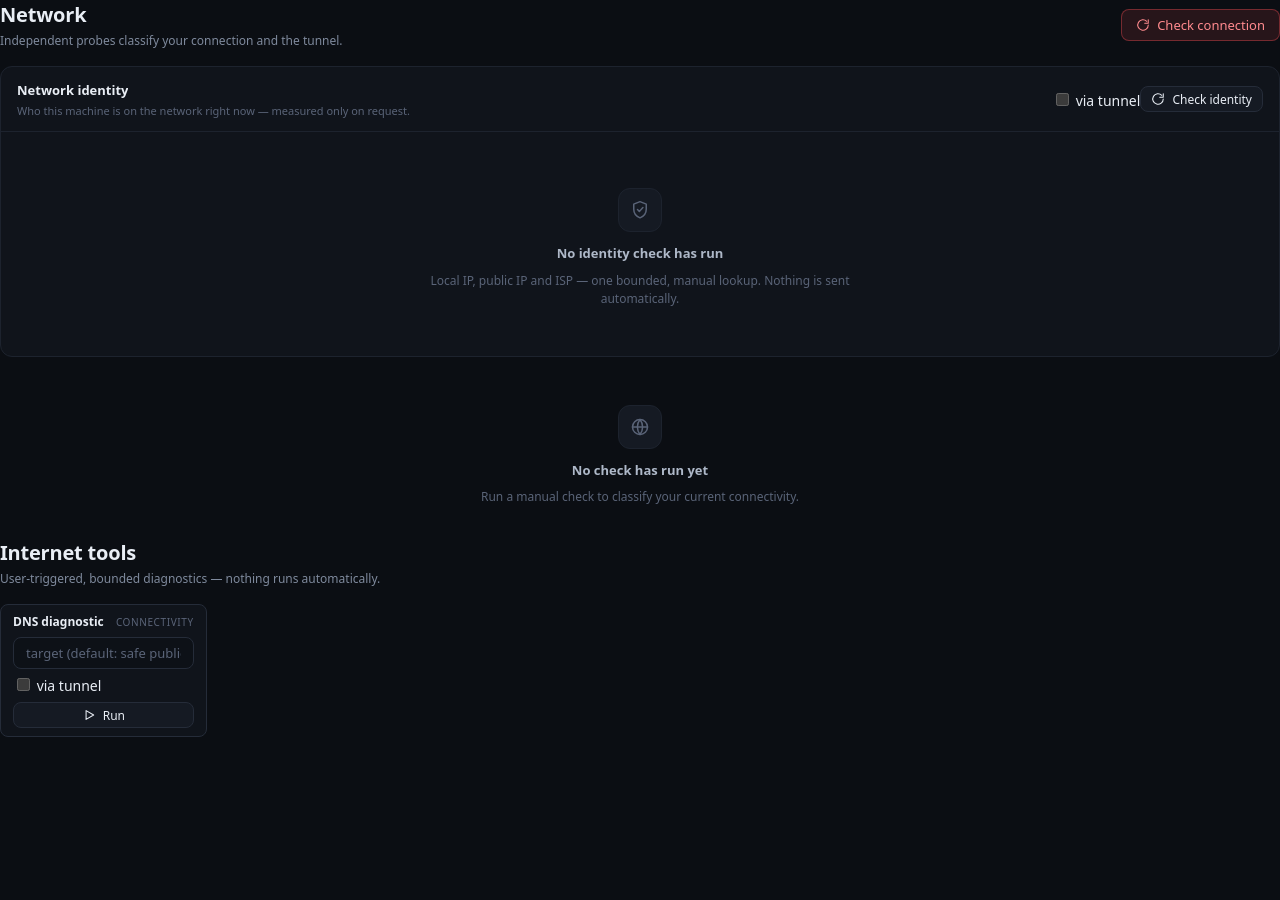
it: DNS diagnostic evidence (v0.9.8.5 §5) › renders per-resolver rows with A/AAAA outcomes and failure classes
Check: the text "DNS diagnostic" is shown, box [13, 613, 104, 631]
Step 1. Click the button "Run" → (103, 715), box [13, 702, 194, 728]
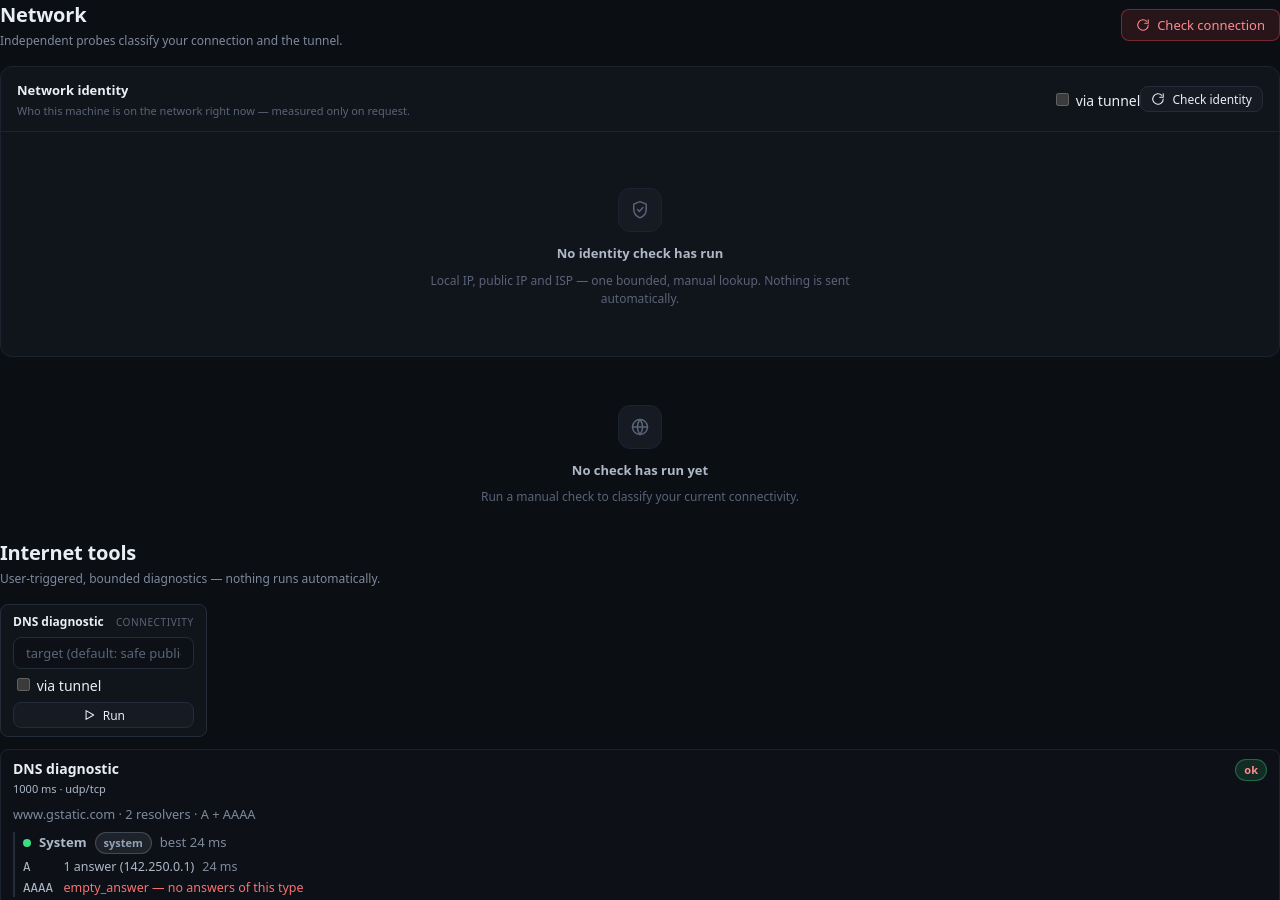
Check: the text "www.gstatic.com · 2 resolvers · A + AAAA" is shown, box [13, 805, 256, 823]
Check: the text "System" is shown, box [39, 833, 86, 853]
Check: the text "1 answer (142.250.0.1)" is shown, box [63, 858, 194, 877]
